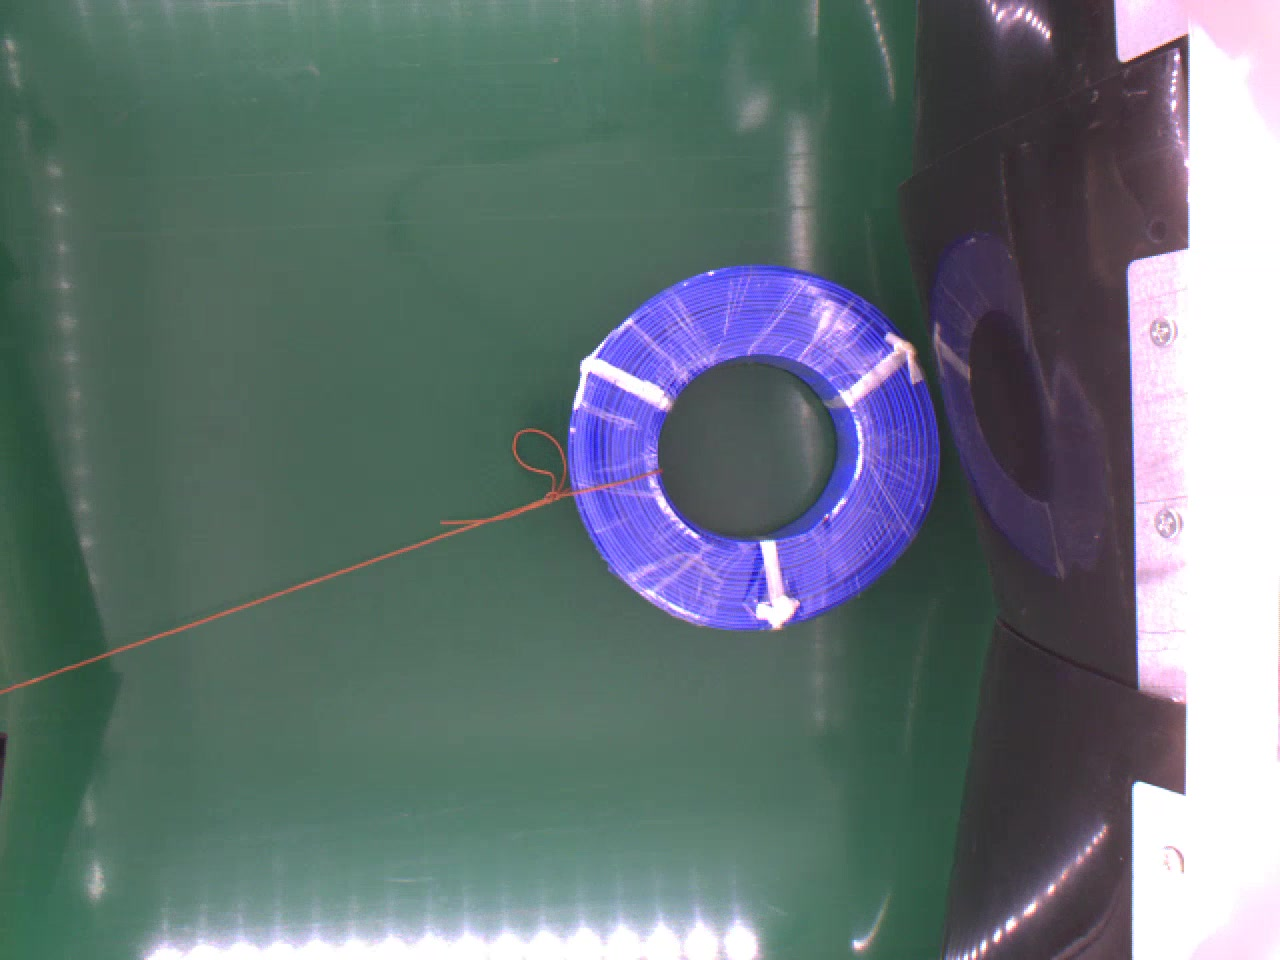blue: (562, 265, 943, 633)
